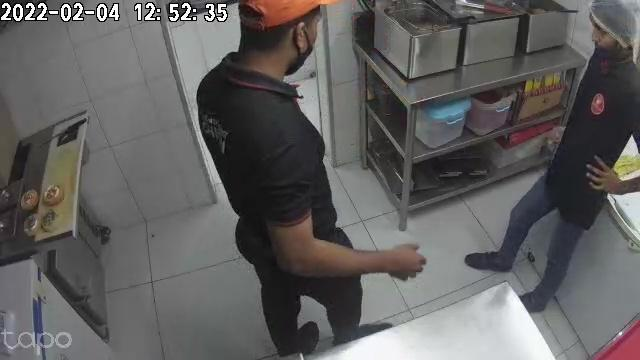no_gloves: (367, 243, 422, 277), (586, 157, 620, 195)
